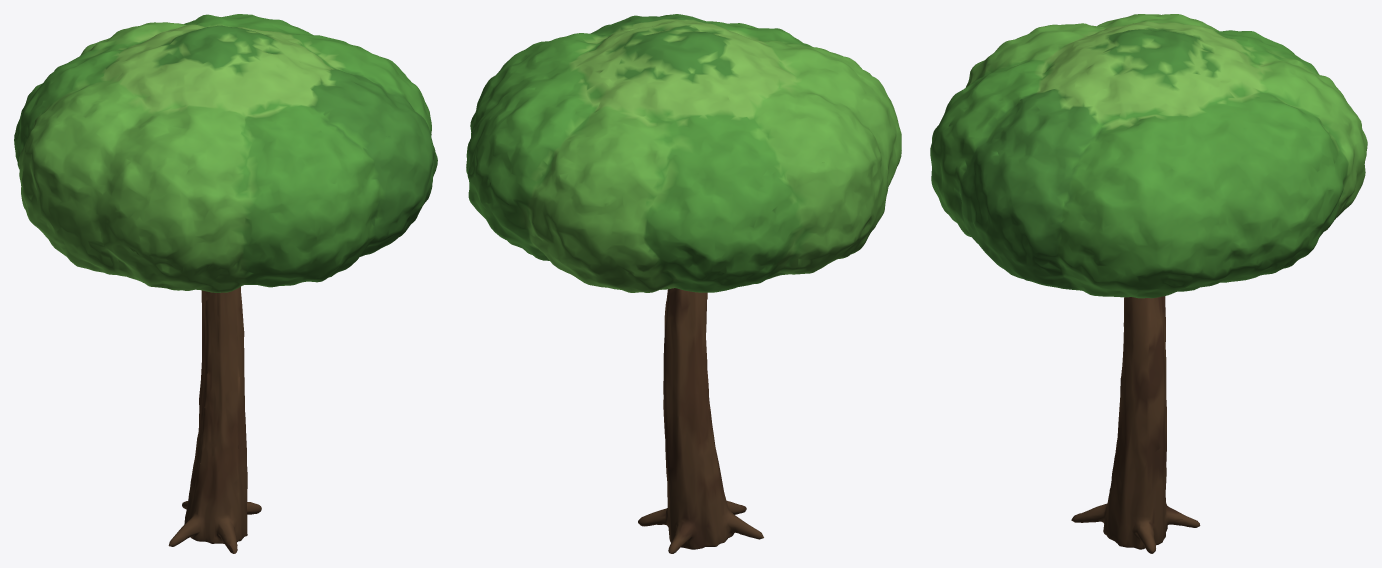
Rendered from broadleaf_mature_medium_rounded_healthy.glb.
The picture shows the model from 3 angles, left to right: view 1: azimuth 30°, elevation 25°; view 2: azimuth 150°, elevation 25°; view 3: azimuth 270°, elevation 25°; orthographic projection. The views are drawn at different scales.
Parts seen in each view (by area): view 1: broadleaf_mature_medium_rounded_healthy_LOD0; view 2: broadleaf_mature_medium_rounded_healthy_LOD0; view 3: broadleaf_mature_medium_rounded_healthy_LOD0.
Boxes of the visible parts, x1,y1,x2,y2 form: broadleaf_mature_medium_rounded_healthy_LOD0: [14, 14, 437, 553]; broadleaf_mature_medium_rounded_healthy_LOD0: [466, 14, 901, 553]; broadleaf_mature_medium_rounded_healthy_LOD0: [930, 14, 1367, 553].
Size of what is drawn, in the model's own units: 3.3 by 4.11 by 3.23.
